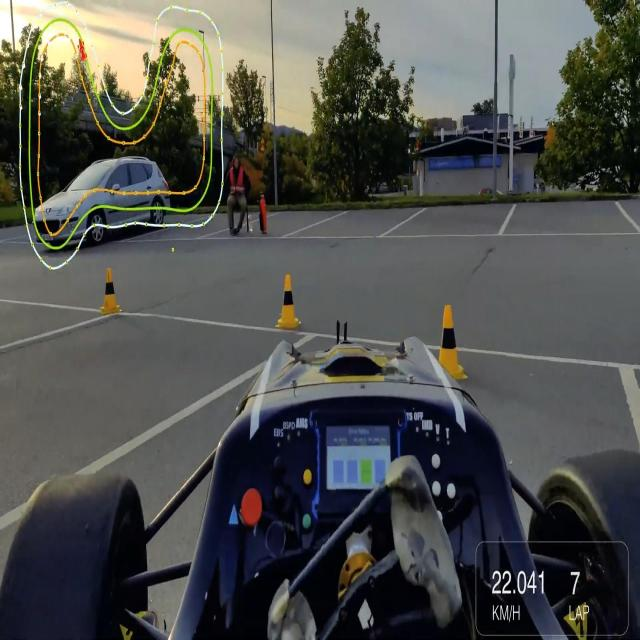yellow_cone: (428, 300, 469, 390), (274, 278, 303, 332), (97, 266, 126, 314)
